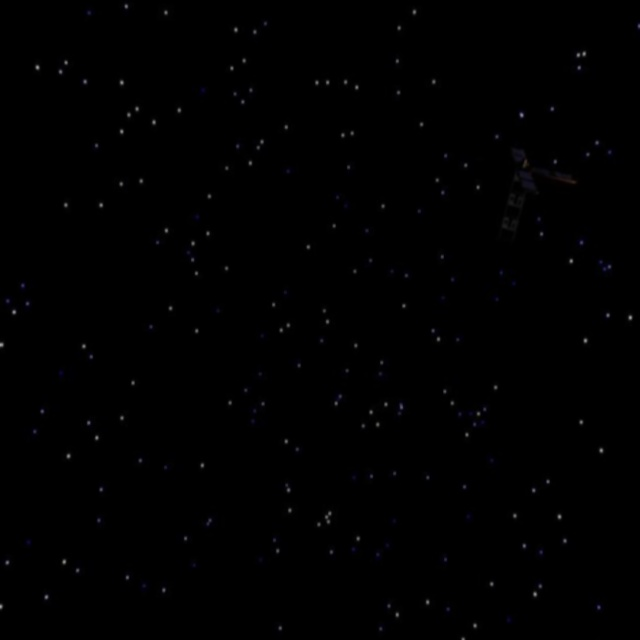medium_debris: (474, 148, 585, 238)
